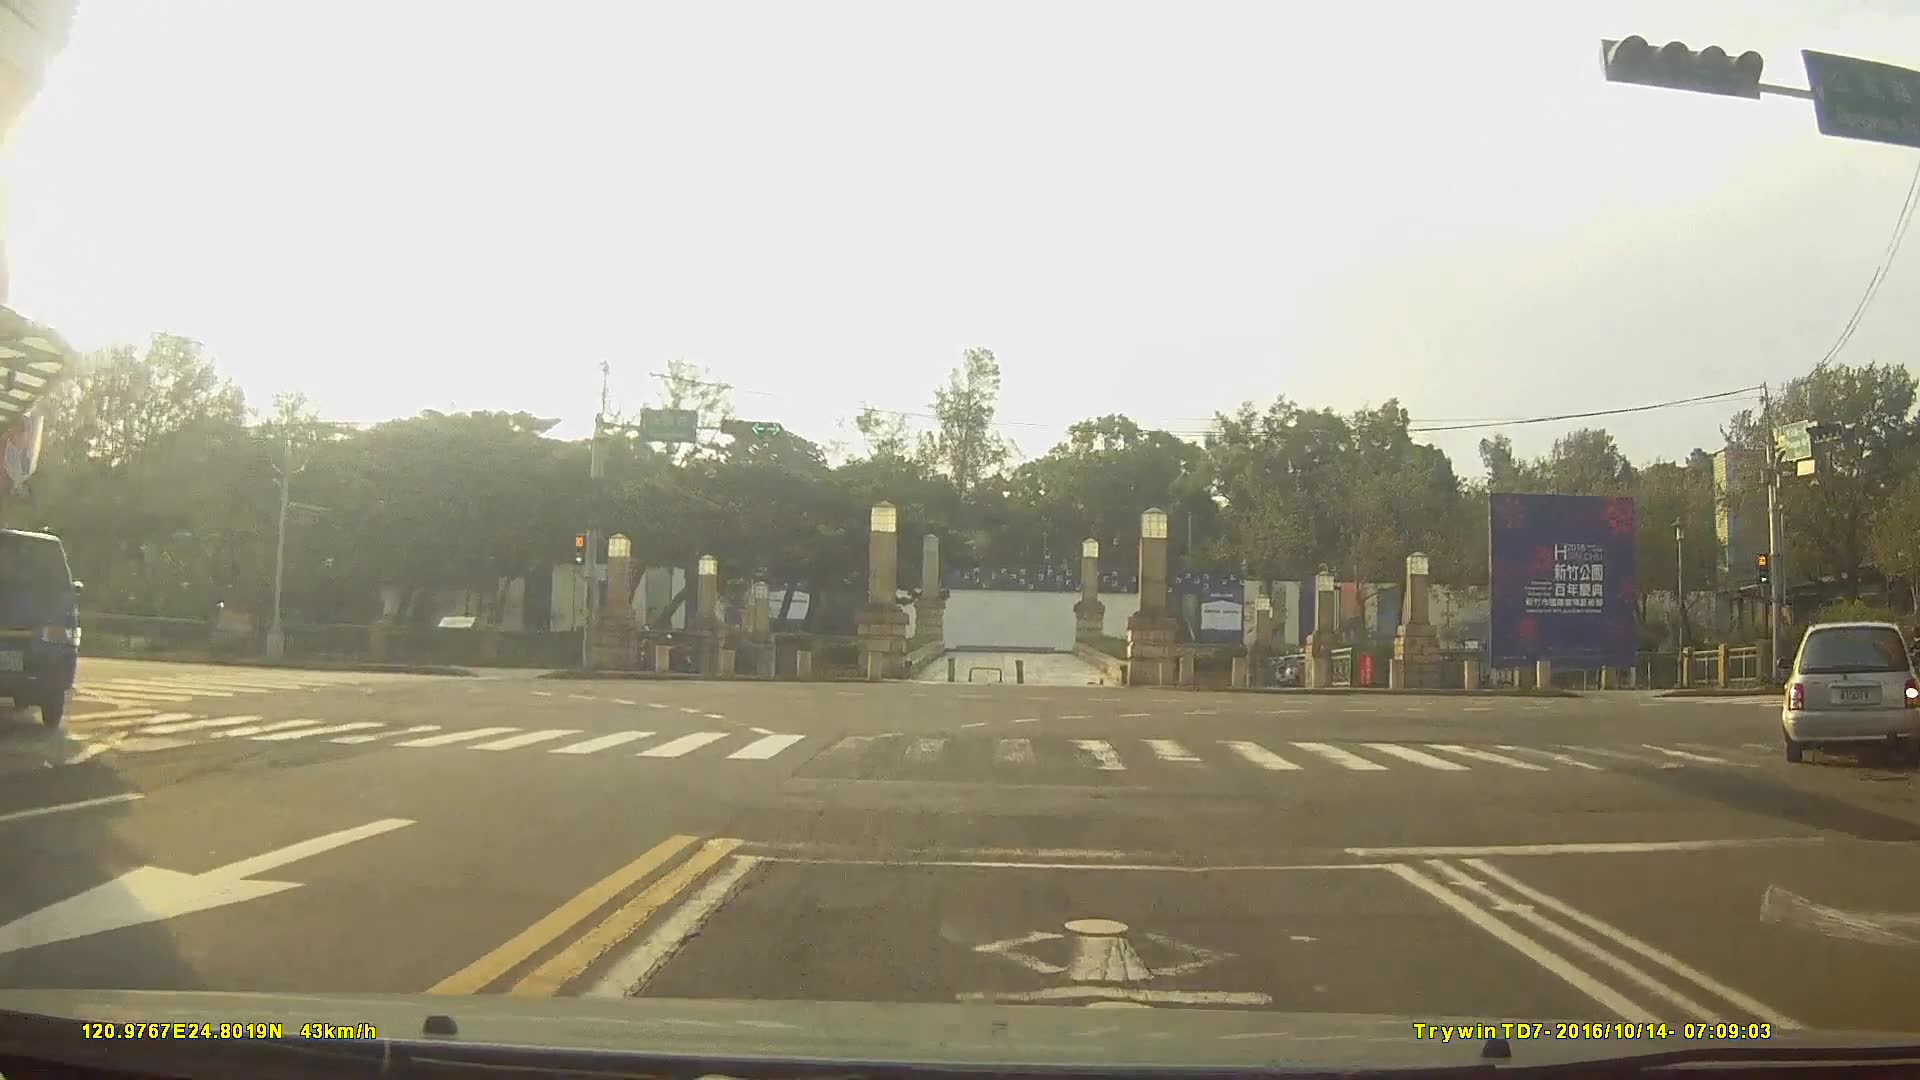vehicle: (1780, 622, 1920, 760), (0, 525, 80, 728)
